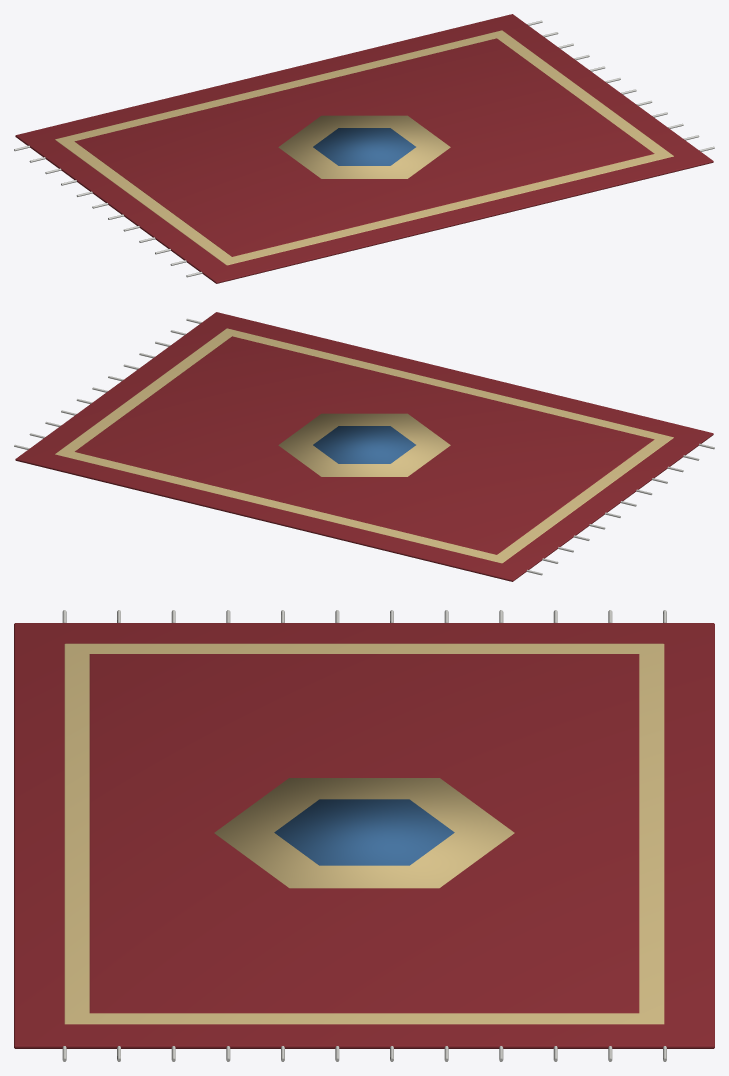
Rendered from rug_rect.glb.
The picture shows the model from 3 angles, top to bottom: view 1: azimuth 30°, elevation 25°; view 2: azimuth 150°, elevation 25°; view 3: azimuth 270°, elevation 25°; orthographic projection. The views are drawn at different scales.
Parts seen in each view (by area): view 1: rug_rect; view 2: rug_rect; view 3: rug_rect.
Part boxes in pixels (<box>): rug_rect: <box>14,14,714,283</box>; rug_rect: <box>14,312,714,581</box>; rug_rect: <box>14,610,714,1061</box>.
Size of the model in its own units: 2.12 by 0.012 by 1.4.
